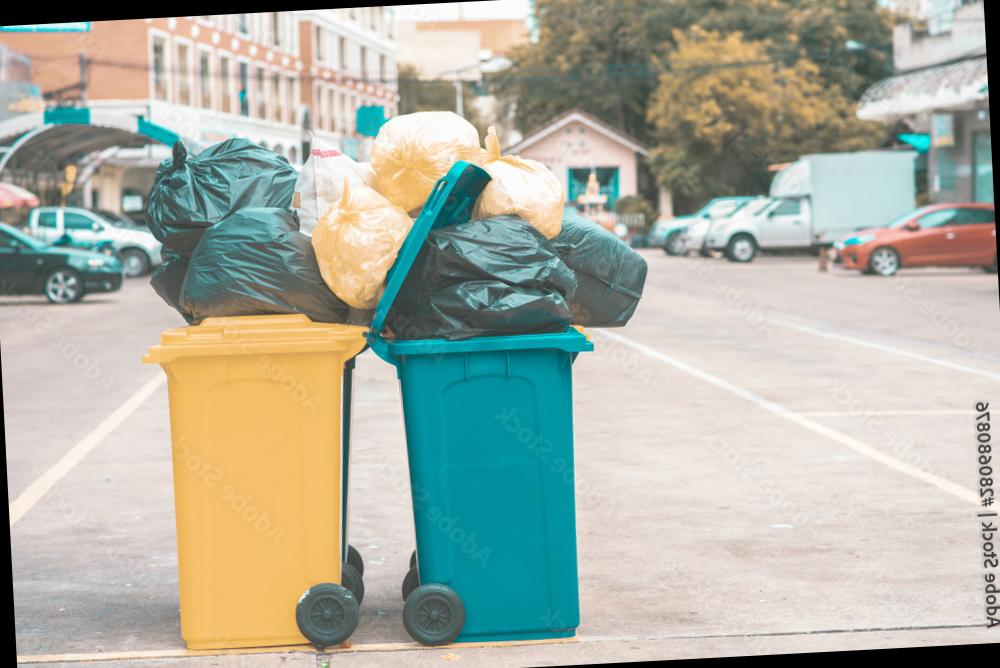road: (0, 249, 1000, 668), (546, 0, 1000, 642), (384, 214, 575, 340), (16, 638, 578, 668), (574, 620, 994, 660)
trash: (85, 0, 591, 663), (386, 215, 576, 339), (179, 207, 350, 323), (146, 137, 298, 256), (311, 178, 412, 307), (550, 209, 647, 326), (369, 110, 479, 211), (470, 127, 563, 237), (290, 134, 375, 234)
